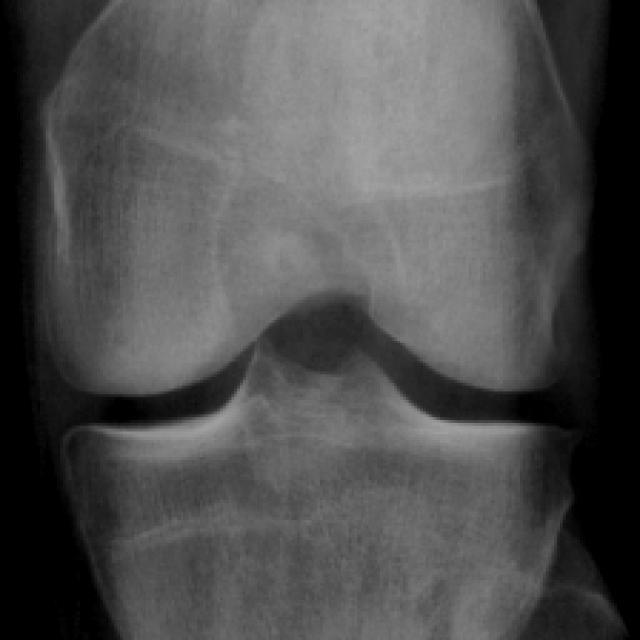femur: (49, 1, 591, 394)
tibia: (69, 333, 566, 640)
